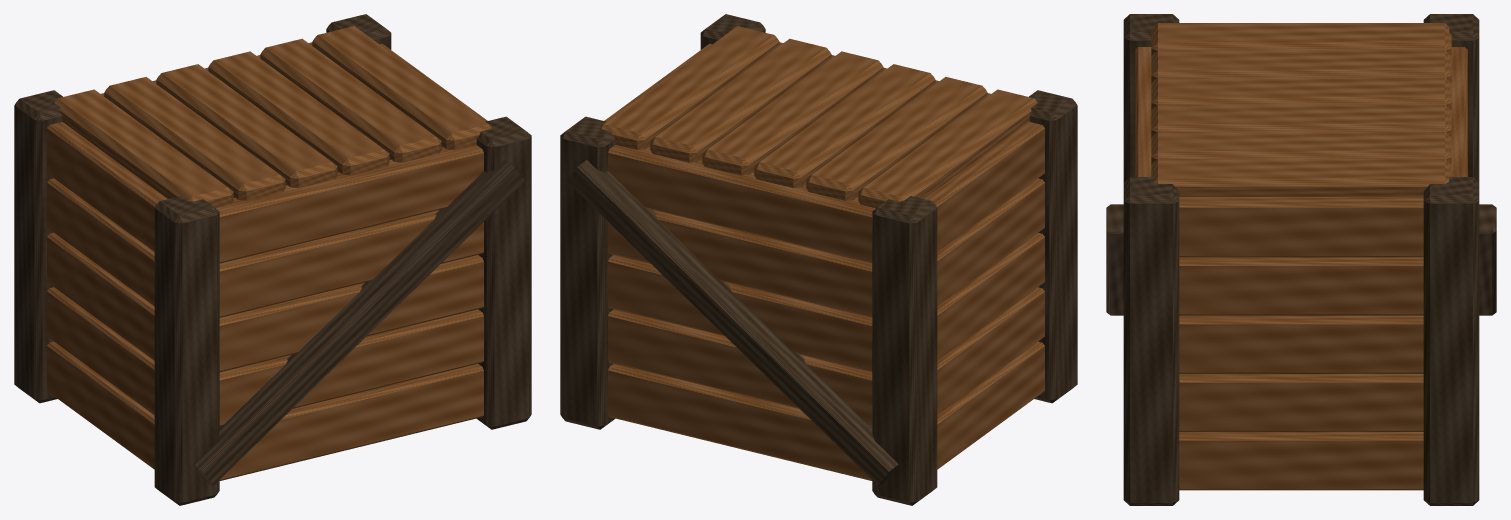
The model's file is cargo_crate.glb.
3 renders of one model, left to right at view 1: azimuth 30°, elevation 25°; view 2: azimuth 150°, elevation 25°; view 3: azimuth 270°, elevation 25°, orthographic. The views are drawn at different scales.
Parts seen in each view (by area): view 1: cargo_crate_Joinery; view 2: cargo_crate_Joinery; view 3: cargo_crate_Joinery.
Part boxes in pixels (box(x1,y1,x2,y2)): cargo_crate_Joinery: box(14, 14, 531, 505); cargo_crate_Joinery: box(560, 14, 1077, 505); cargo_crate_Joinery: box(1106, 14, 1496, 505).
Bounding box in the file's own units: 1.03 × 0.81 × 0.91.
Materials: 1 (1 with a texture image).
